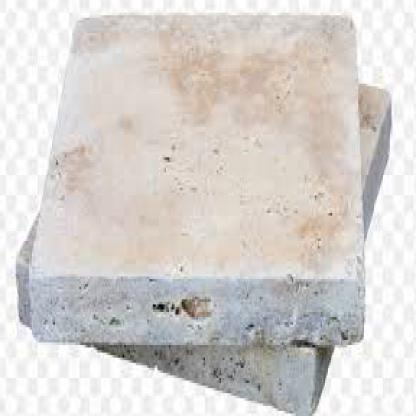Metamorphic_Marble: (26, 0, 367, 345)
